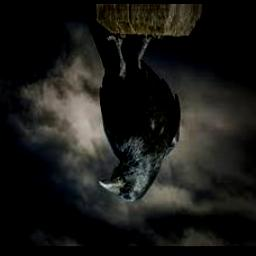Crow: (89, 21, 180, 202)
